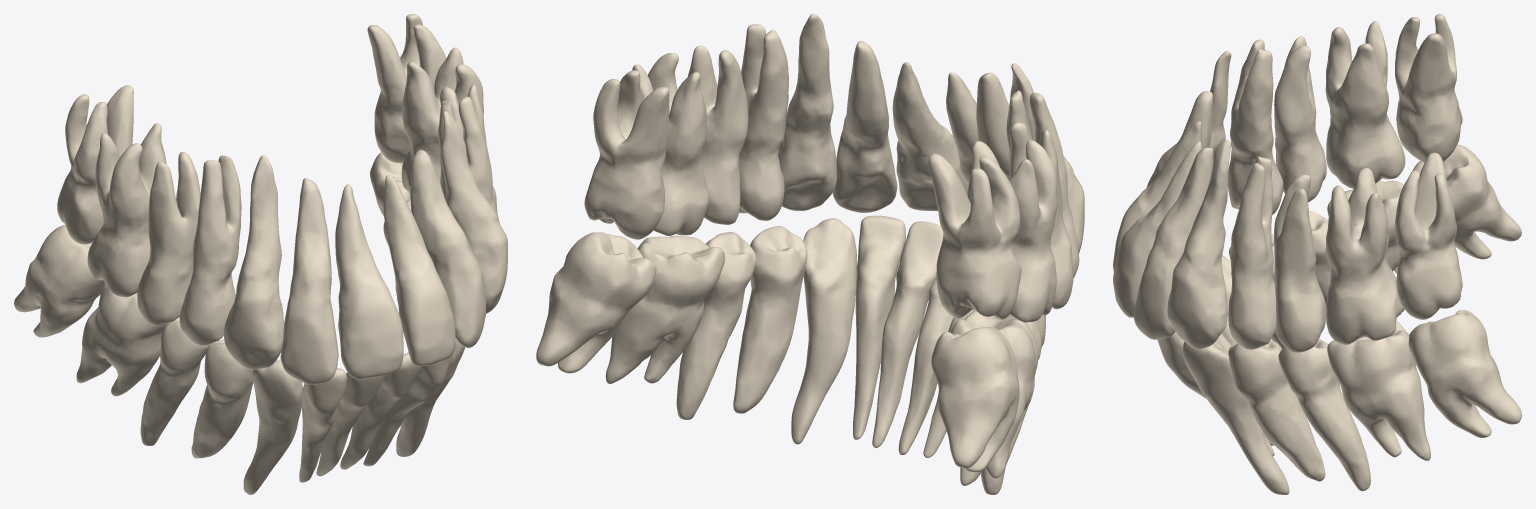
The model's file is teeth.head.glb.
3 views of the same model, side by side, from view 1: azimuth 30°, elevation 25°; view 2: azimuth 150°, elevation 25°; view 3: azimuth 270°, elevation 25° (orthographic). The views are drawn at different scales.
Parts seen in each view (by area): view 1: right_first_upper_molar_tooth, right_upper_central_incisor_tooth, right_upper_canine_tooth, right_upper_lateral_incisor_tooth, right_first_upper_premolar_tooth, right_second_upper_premolar_tooth, left_upper_central_incisor_tooth, left_upper_lateral_incisor_tooth, right_second_upper_molar_tooth, right_first_lower_molar_tooth, right_second_lower_molar_tooth, left_upper_canine_tooth (+13 smaller); view 2: right_second_upper_molar_tooth, left_second_upper_molar_tooth, left_second_lower_molar_tooth, left_first_lower_molar_tooth, right_second_lower_molar_tooth, left_lower_canine_tooth, left_first_lower_premolar_tooth, left_upper_canine_tooth, left_first_upper_premolar_tooth, left_upper_lateral_incisor_tooth, left_first_upper_molar_tooth, right_first_upper_molar_tooth (+14 smaller); view 3: left_first_upper_molar_tooth, right_first_upper_molar_tooth, left_first_lower_molar_tooth, left_second_upper_molar_tooth, left_second_lower_molar_tooth, right_second_upper_molar_tooth, left_upper_canine_tooth, left_first_upper_premolar_tooth, left_second_upper_premolar_tooth, left_first_lower_premolar_tooth, left_second_lower_premolar_tooth, left_upper_lateral_incisor_tooth (+11 smaller).
Part boxes in pixels (<box>): right_first_upper_molar_tooth: <box>87,123,166,297</box>; right_upper_central_incisor_tooth: <box>335,184,403,379</box>; right_upper_canine_tooth: <box>224,155,284,369</box>; right_upper_lateral_incisor_tooth: <box>280,178,338,384</box>; right_first_upper_premolar_tooth: <box>179,155,241,345</box>; right_second_upper_premolar_tooth: <box>137,152,200,326</box>; left_upper_central_incisor_tooth: <box>383,175,455,366</box>; left_upper_lateral_incisor_tooth: <box>410,149,485,347</box>; right_second_upper_molar_tooth: <box>57,85,133,244</box>; right_first_lower_molar_tooth: <box>76,281,165,396</box>; right_second_lower_molar_tooth: <box>14,224,103,337</box>; left_upper_canine_tooth: <box>441,111,507,313</box>; right_second_upper_molar_tooth: <box>928,153,1021,319</box>; left_second_upper_molar_tooth: <box>584,70,669,239</box>; left_second_lower_molar_tooth: <box>536,232,656,373</box>; left_first_lower_molar_tooth: <box>605,235,724,383</box>; right_second_lower_molar_tooth: <box>931,326,1019,472</box>; left_lower_canine_tooth: <box>791,218,856,444</box>; left_first_lower_premolar_tooth: <box>733,226,807,413</box>; left_upper_canine_tooth: <box>778,14,836,210</box>; left_first_upper_premolar_tooth: <box>738,24,788,220</box>; left_upper_lateral_incisor_tooth: <box>832,41,897,212</box>; left_first_upper_molar_tooth: <box>632,53,708,235</box>; right_first_upper_molar_tooth: <box>967,140,1057,322</box>; left_first_upper_molar_tooth: <box>1325,168,1404,344</box>; right_first_upper_molar_tooth: <box>1325,21,1405,188</box>; left_first_lower_molar_tooth: <box>1327,321,1430,460</box>; left_second_upper_molar_tooth: <box>1394,152,1462,319</box>; left_second_lower_molar_tooth: <box>1408,310,1521,437</box>; right_second_upper_molar_tooth: <box>1395,14,1462,162</box>; left_upper_canine_tooth: <box>1167,139,1230,349</box>; left_first_upper_premolar_tooth: <box>1228,156,1276,349</box>; left_second_upper_premolar_tooth: <box>1274,174,1326,352</box>; left_first_lower_premolar_tooth: <box>1228,340,1325,481</box>; left_second_lower_premolar_tooth: <box>1278,339,1370,491</box>; left_upper_lateral_incisor_tooth: <box>1133,147,1213,339</box>.
Size of the model in its own units: 0.0651 by 0.0554 by 0.0563.
